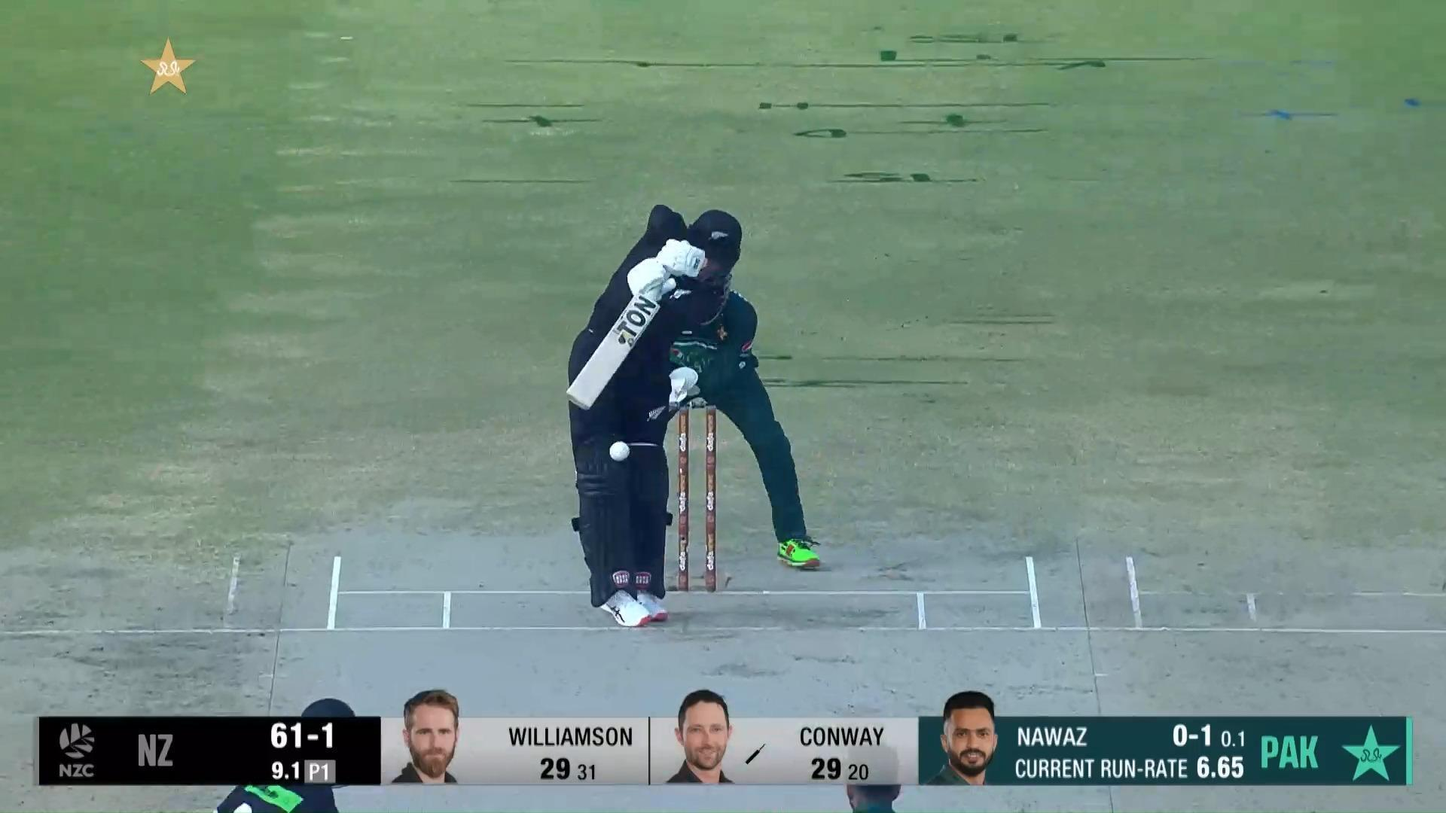BM 1: (561, 201, 745, 630)
BO: (844, 740, 903, 813)
